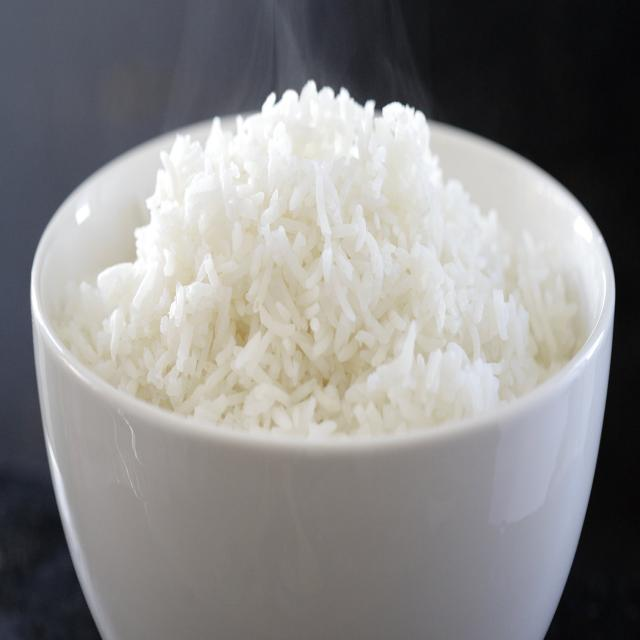Wet Waste: (59, 68, 591, 466)
